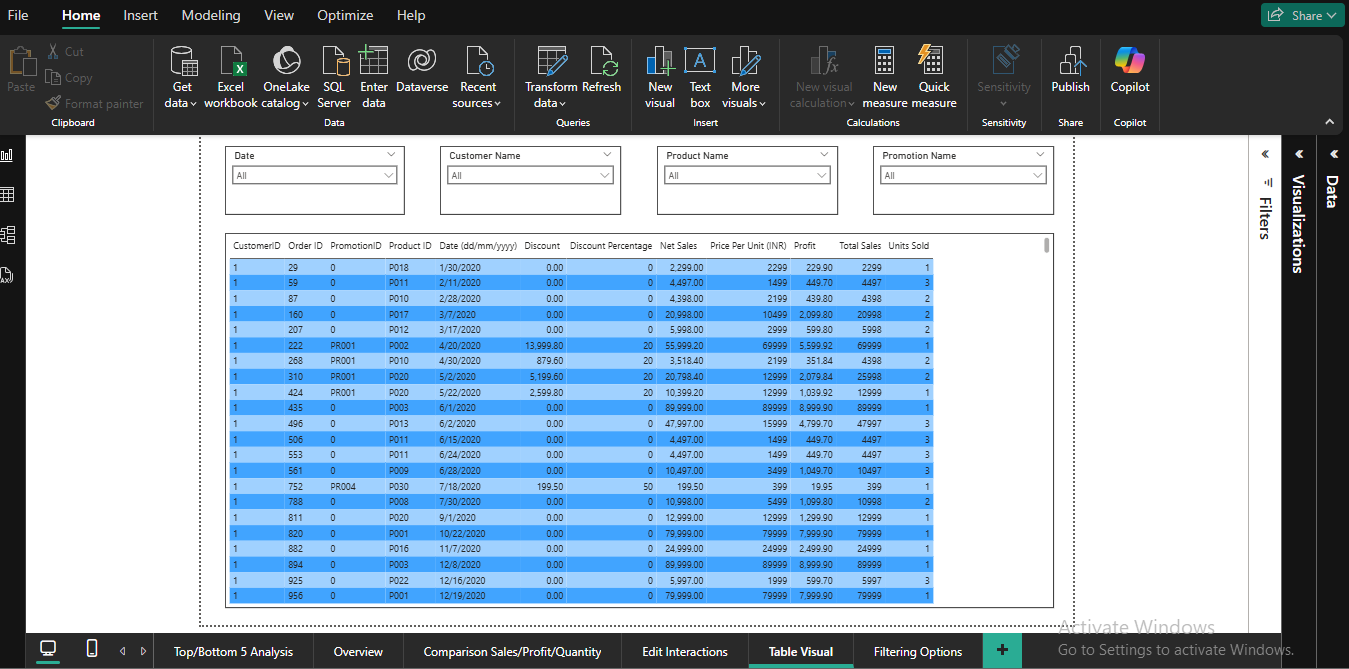

This screenshot's page, from the dashboard's own definition file:
{"tool":"powerbi","page":{"name":"Table Visual","canvas":[1280,720],"ordinal":4},"visuals":[{"type":"tableEx","fields":{"Values":["Fact Table.CustomerID","Fact Table.Order ID","Fact Table.PromotionID","Fact Table.Product ID","Fact Table.Date (dd/mm/yyyy)","Fact Table.Discount","Fact Table.Discount Percentage","Fact Table.Net Sales","Fact Table.Price Per Unit (INR)","Fact Table.Profit","Fact Table.Total Sales","Fact Table.Units Sold"]},"box":[35.3,144,1218.1,551],"z":0},{"type":"slicer","fields":{"Values":["Date Table 1.Date"]},"box":[35.3,16.2,264.5,101.4],"z":1},{"type":"slicer","fields":{"Values":["Dim Customers.Customer Name"]},"box":[351.2,16.2,266,101.4],"z":2},{"type":"slicer","fields":{"Values":["Dim Product.Product Name"]},"box":[670,16.2,266,101.4],"z":3},{"type":"slicer","fields":{"Values":["Dim Promotion.Promotion Name"]},"box":[987.4,16.2,266,101.4],"z":4}]}

Visuals, with their boxes on the page's 1280x720 design canvas (x1, y1, x2, y2). These are canvas units, not pixel positions in the 1349x669 screenshot, which may show the page scaled, cropped or inside an application window:
tableEx - Fact Table.CustomerID x Fact Table.Order ID: bbox=[35, 144, 1253, 695]
slicer - Date Table 1.Date: bbox=[35, 16, 300, 118]
slicer - Dim Customers.Customer Name: bbox=[351, 16, 617, 118]
slicer - Dim Product.Product Name: bbox=[670, 16, 936, 118]
slicer - Dim Promotion.Promotion Name: bbox=[987, 16, 1253, 118]
